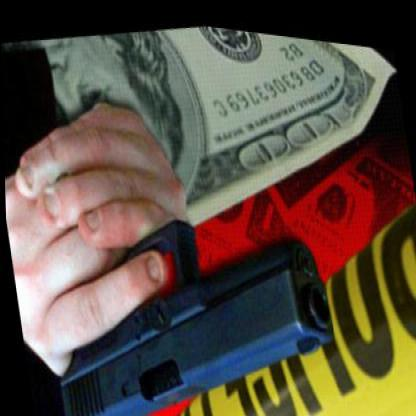pistol: (30, 166, 348, 414)
